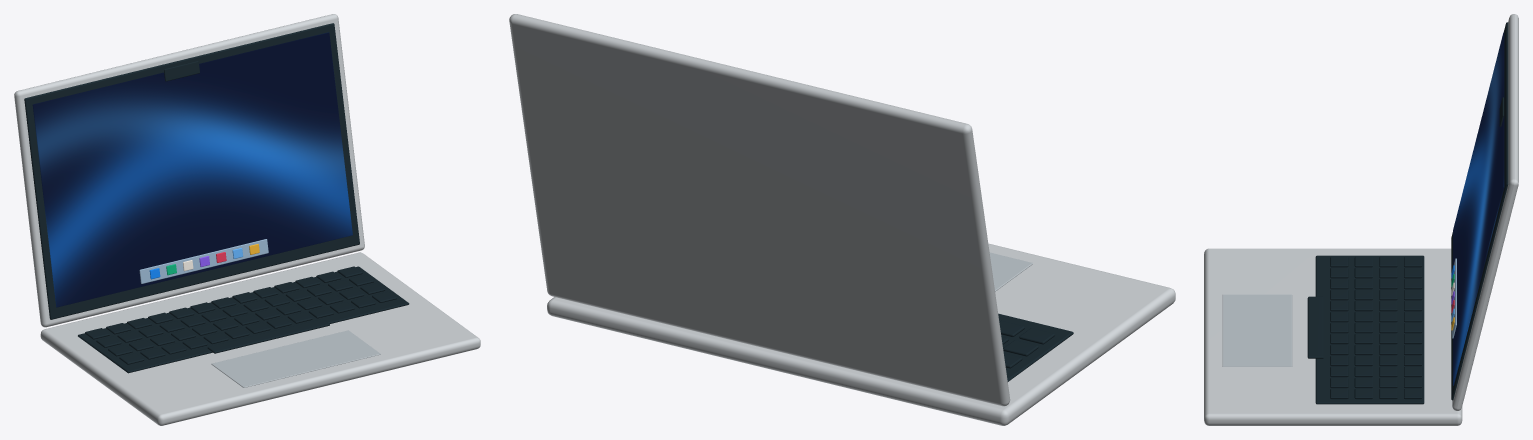
File: work-office-modern.glb
3 views of the same model, side by side, from view 1: azimuth 30°, elevation 25°; view 2: azimuth 150°, elevation 25°; view 3: azimuth 270°, elevation 25° (orthographic). The views are drawn at different scales.
Visible parts, largest first — view 1: Powered glass display, Laptop lower chassis, Dark display bezel, Slim display housing, Laptop keyboard well, Large inset trackpad, Desktop dock, Space bar, MacBook camera notch; view 2: Slim display housing, Laptop lower chassis, Laptop keyboard well, Large inset trackpad; view 3: Laptop lower chassis, Powered glass display, Laptop keyboard well, Large inset trackpad, Slim display housing, Dark display bezel, Space bar.
Part boxes in pixels (x1,y1,x2,y2): Powered glass display: [32, 32, 352, 307]; Laptop lower chassis: [40, 252, 480, 425]; Dark display bezel: [24, 23, 359, 319]; Slim display housing: [14, 14, 364, 327]; Laptop keyboard well: [78, 266, 409, 373]; Large inset trackpad: [211, 330, 380, 387]; Desktop dock: [139, 239, 268, 283]; Space bar: [207, 319, 329, 353]; MacBook camera notch: [164, 61, 199, 81]; Slim display housing: [509, 14, 1010, 406]; Laptop lower chassis: [547, 243, 1175, 425]; Laptop keyboard well: [998, 313, 1073, 381]; Large inset trackpad: [989, 252, 1032, 291]; Laptop lower chassis: [1204, 248, 1462, 425]; Powered glass display: [1453, 32, 1504, 385]; Laptop keyboard well: [1315, 255, 1424, 404]; Large inset trackpad: [1222, 294, 1292, 366]; Slim display housing: [1452, 14, 1518, 410]; Dark display bezel: [1451, 22, 1508, 400]; Space bar: [1307, 296, 1323, 358].
Size of the model in its own units: 3.9 by 2.65 by 3.07.
Materials: 12 (1 with a texture image).
